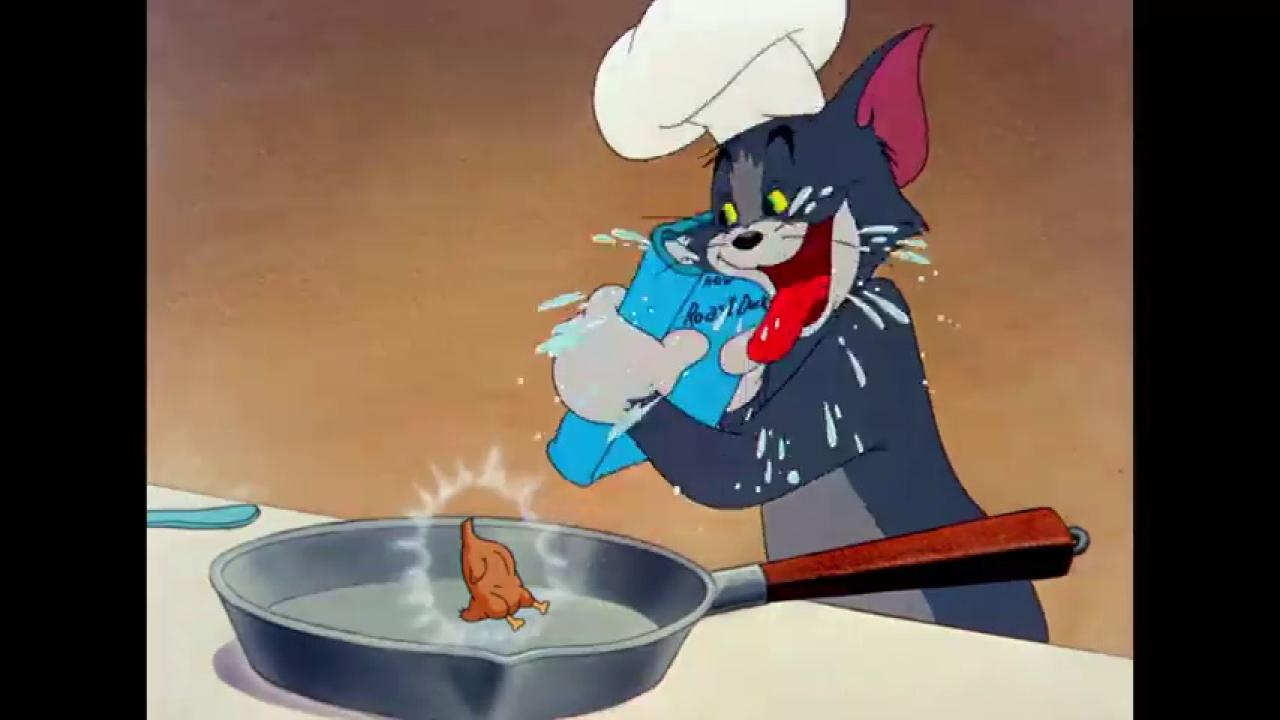Tom: (548, 20, 1052, 645)
